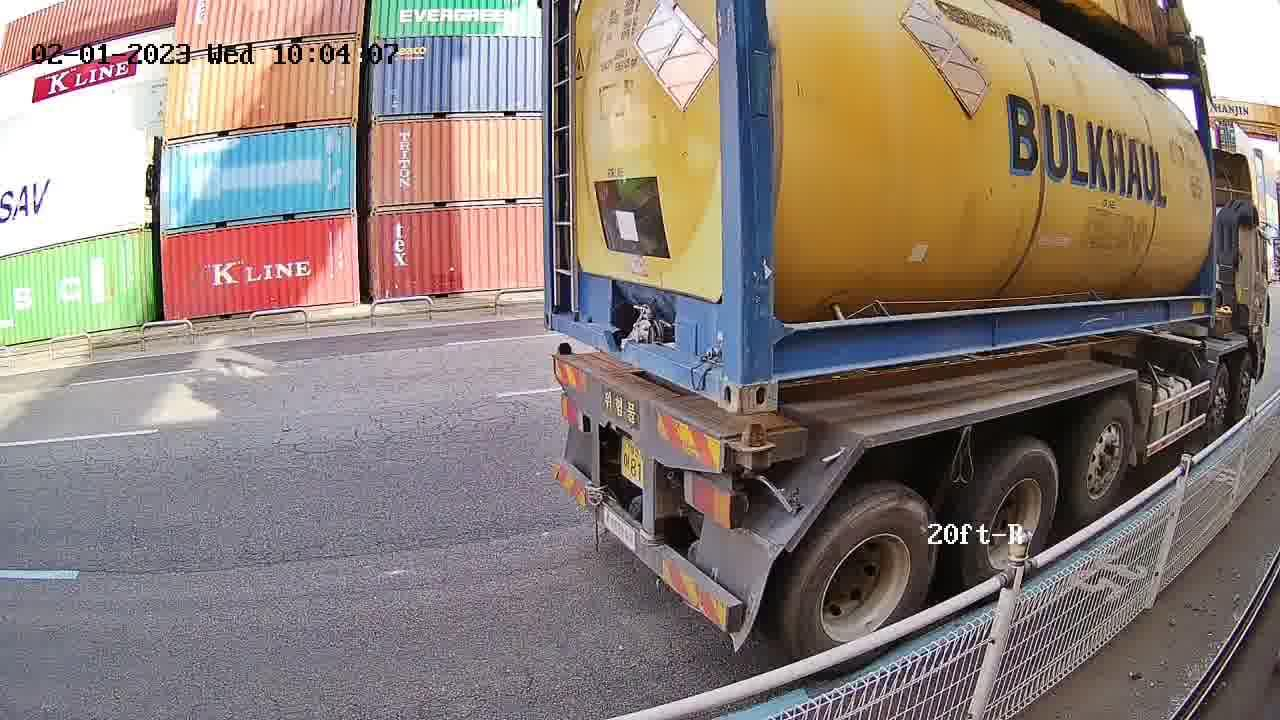Chassis: (555, 353, 773, 471)
Cone: (738, 423, 770, 481), (553, 343, 574, 358)
Hole_L: (740, 345, 814, 414), (544, 288, 577, 336)
Hole_R: (691, 338, 739, 414)
Tire: (791, 488, 940, 676), (965, 438, 1057, 596), (1075, 398, 1134, 519)
